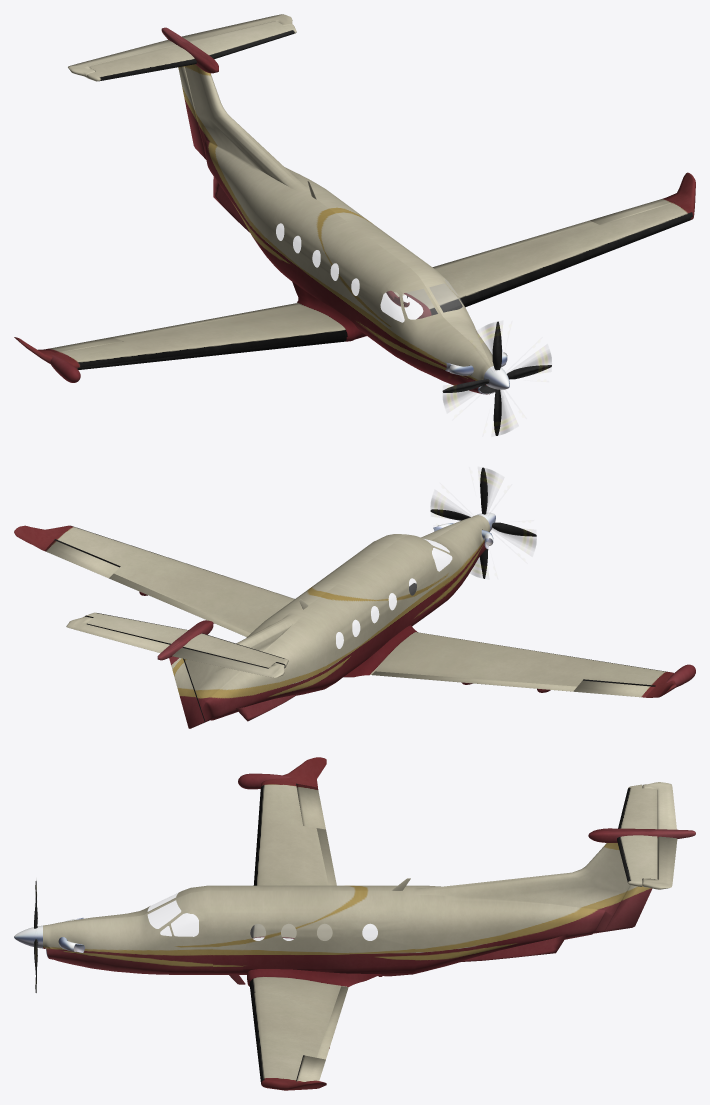
The picture shows the model from 3 angles, top to bottom: view 1: azimuth 30°, elevation 25°; view 2: azimuth 150°, elevation 25°; view 3: azimuth 270°, elevation 25°; orthographic projection. The views are drawn at different scales.
Visible parts, largest first — view 1: fuselage, ailes, ailes2, vitres, profondeur, helice, propblur, direction, ajout, voletG; view 2: fuselage, ailes, ailes2, profondeur, voletD, direction, helice, aileronG, voletG, vitres, aileronD, propblur (+3 smaller); view 3: fuselage, ailes, baie, ailes2, porte, profondeur, vitres, direction, ailes3, ajout, aileronD, voletG (+2 smaller).
Part boxes in pixels (x1,y1,x2,y2): fuselage: (184,64,494,394); ailes: (14,172,695,369); ailes2: (87,21,296,81); vitres: (276,223,463,322); profondeur: (68,14,292,77); helice: (442,321,551,435); propblur: (443,323,551,433); direction: (178,66,206,159); ajout: (161,27,218,73); voletG: (386,220,593,302); fuselage: (184,515,489,722); ailes: (14,525,676,697); ailes2: (86,612,288,667); profondeur: (66,616,284,677); voletD: (372,671,576,692); direction: (169,656,204,728); helice: (430,467,536,578); aileronG: (44,540,119,578); voletG: (109,573,250,636); vitres: (336,538,451,648); aileronD: (573,680,654,697); propblur: (431,469,535,576); fuselage: (43,843,629,976); ailes: (247,757,381,1090); baie: (349,906,415,973); ailes2: (617,784,657,886); porte: (213,906,243,972); profondeur: (642,782,677,889); vitres: (148,893,332,940); direction: (604,885,652,931); ailes3: (458,934,567,962); ajout: (588,828,695,842); aileronD: (296,784,325,829); voletG: (316,986,348,1059).
Bounding box in the file's own units: 16.21 × 3.8 × 14.39.
3 materials, 2 textured.
